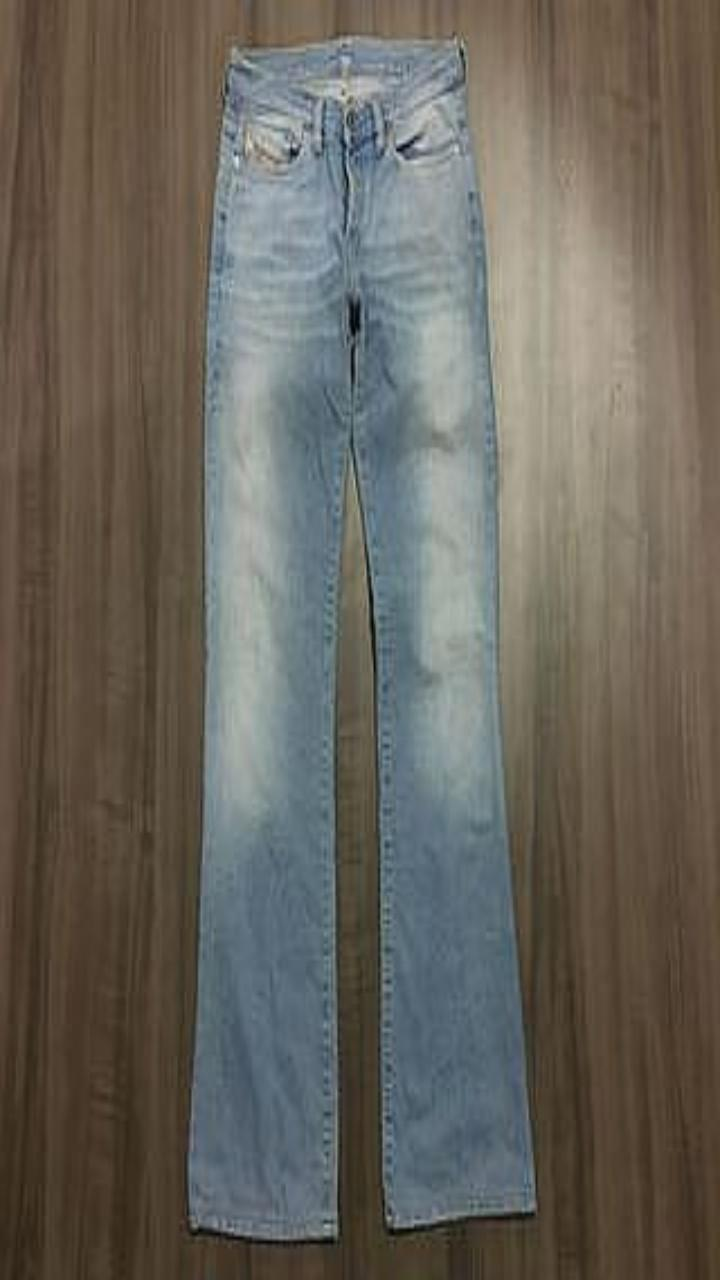Jeans: (188, 36, 536, 1239)
